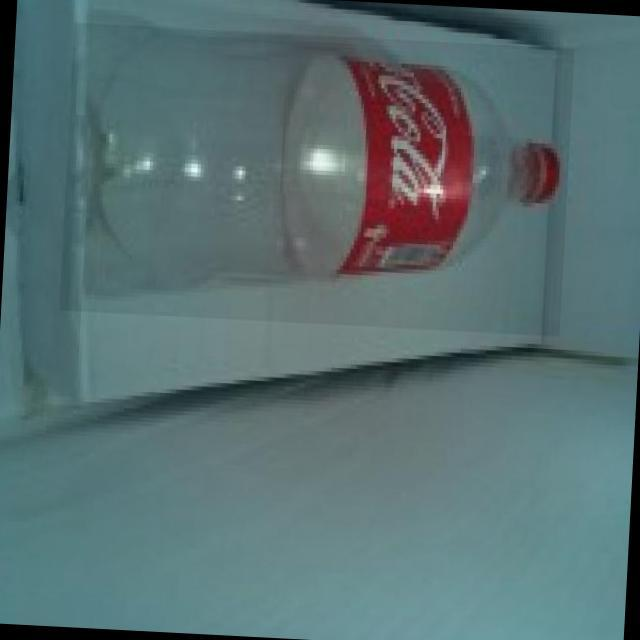good: (59, 22, 574, 336)
